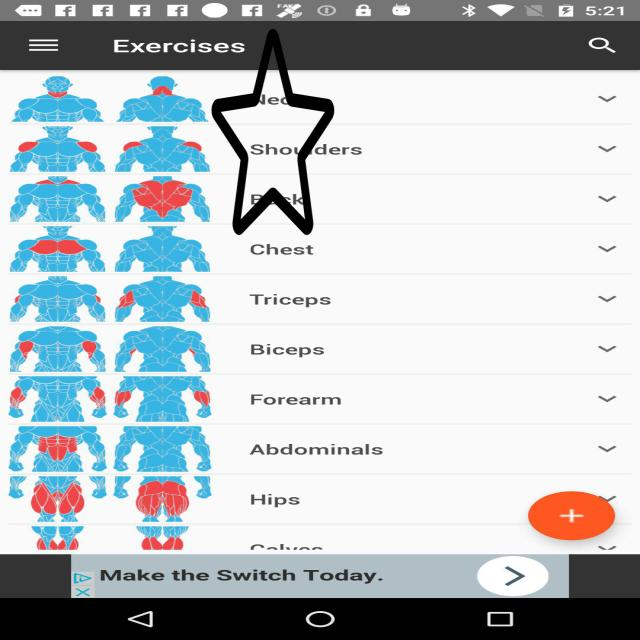forced continuity: (212, 24, 334, 240)
